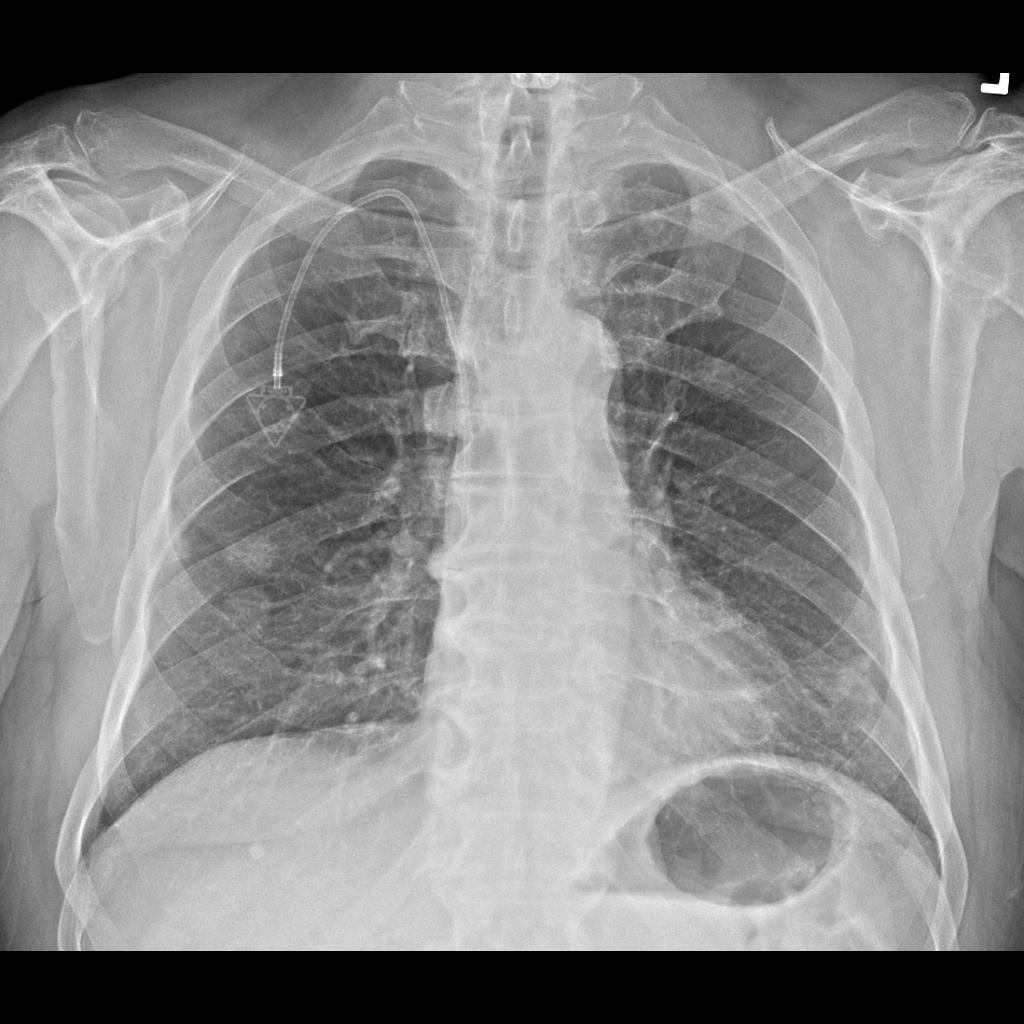Nodule: (211, 577, 277, 642), (829, 644, 885, 709), (217, 525, 279, 575)
